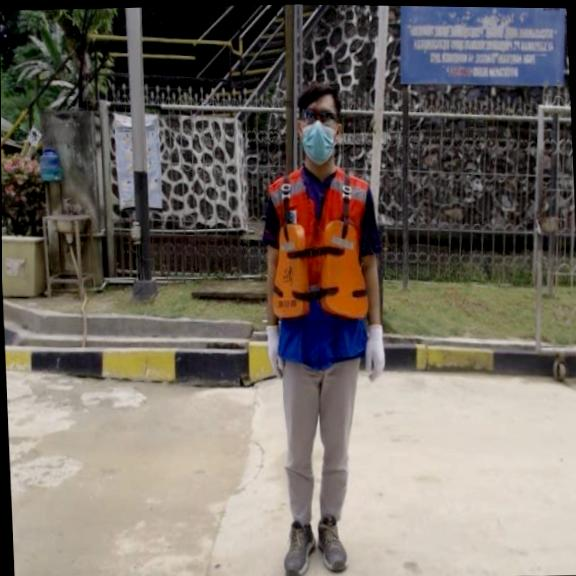safety_vest: (267, 216, 369, 323)
